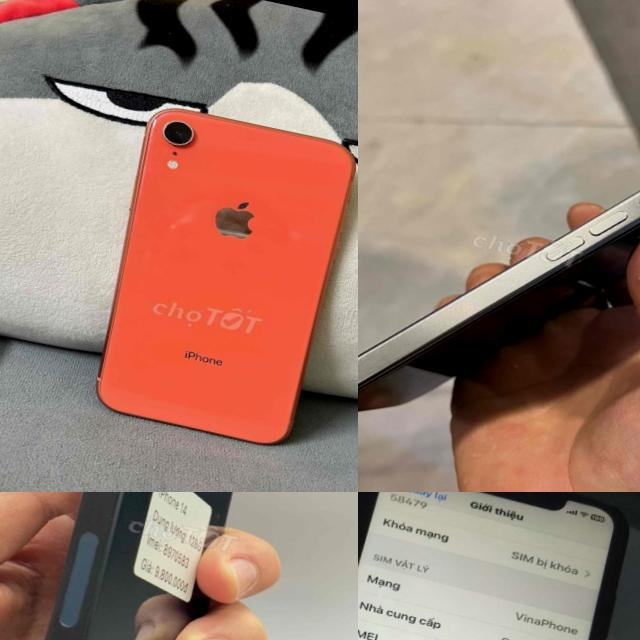gen_14: (6, 492, 321, 640)
gen_16: (358, 62, 640, 492)
gen_x_xs: (69, 89, 358, 472), (358, 492, 626, 640)
